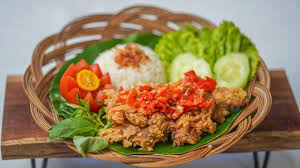ayam_geprek: (100, 88, 241, 151)
